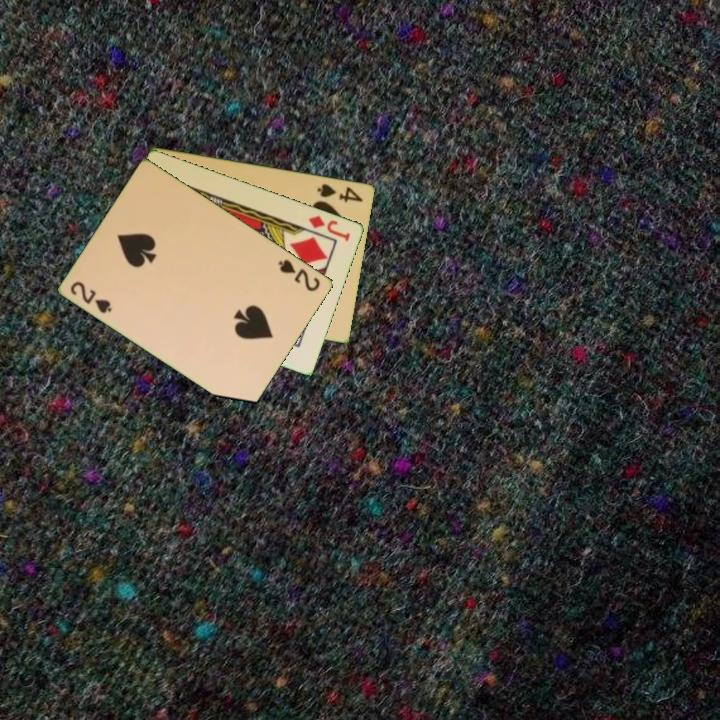2s: (275, 255, 323, 294), (67, 278, 115, 316)
4s: (314, 180, 366, 205)
Jd: (305, 212, 353, 244)
